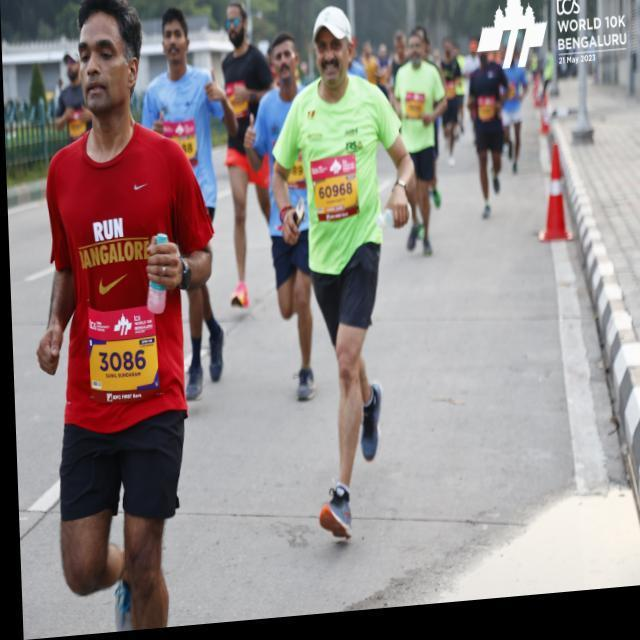dorsal: (84, 304, 153, 408), (310, 160, 360, 230)
